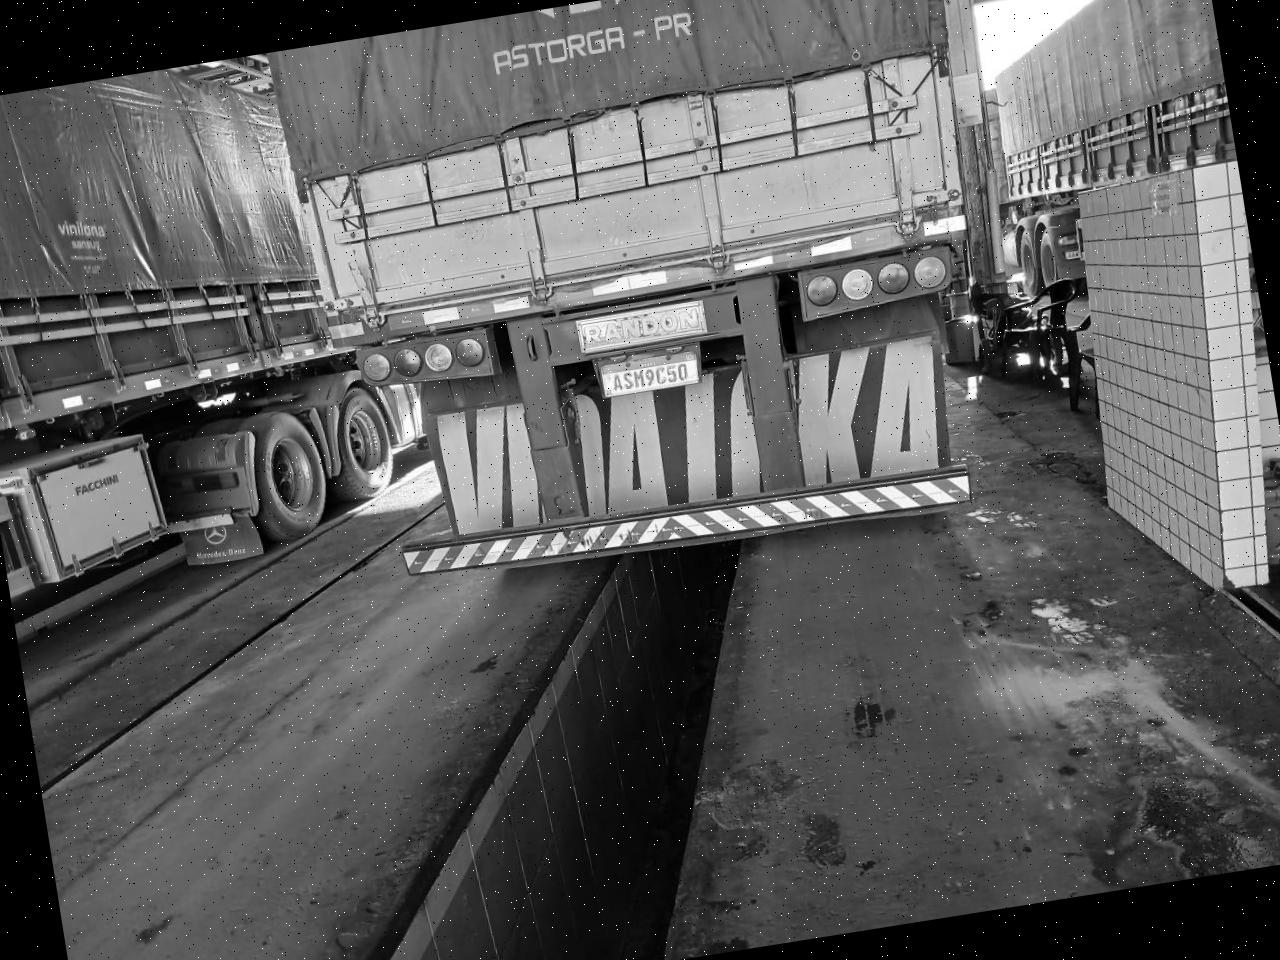placa_mercosul: (598, 350, 700, 397)
